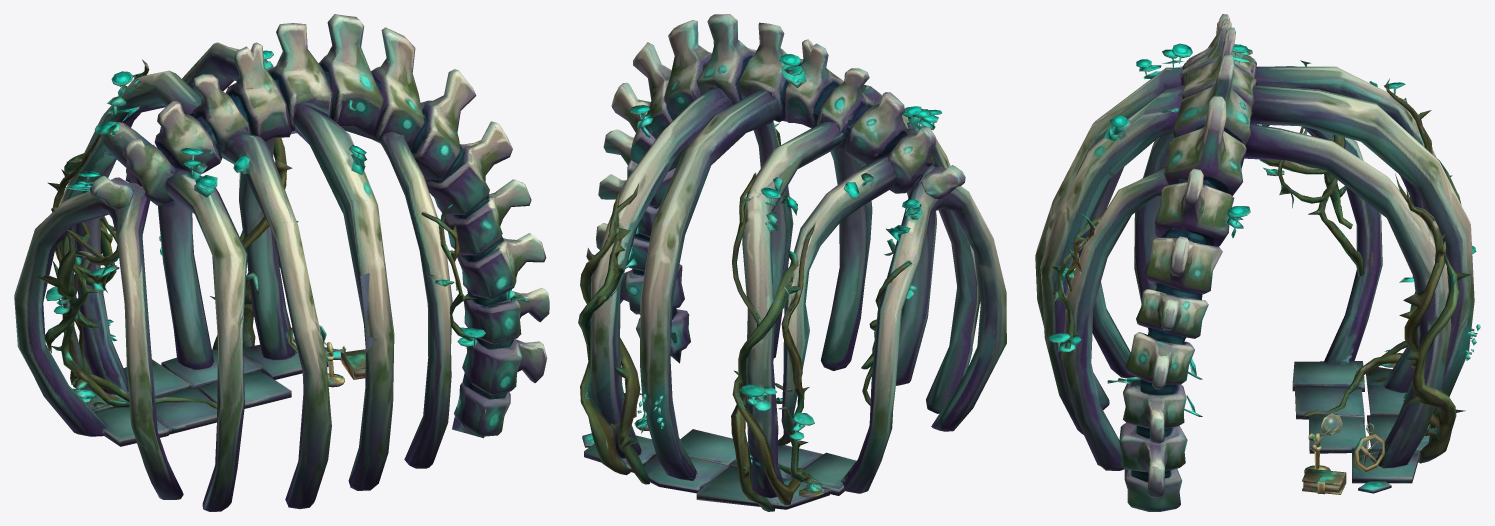
The model's file is p_ribcage.glb.
3 views of the same model, side by side, from view 1: azimuth 30°, elevation 25°; view 2: azimuth 150°, elevation 25°; view 3: azimuth 270°, elevation 25° (orthographic). The views are drawn at different scales.
Visible parts, largest first — view 1: Mesh_0; view 2: Mesh_0; view 3: Mesh_0.
Boxes of the visible parts, x1=… form: Mesh_0: x1=14, y1=14, x2=549, y2=511; Mesh_0: x1=578, y1=14, x2=1006, y2=511; Mesh_0: x1=1035, y1=14, x2=1480, y2=511.
Bounding box in the file's own units: 1.07 × 1 × 1.
1 material, 1 textured.
